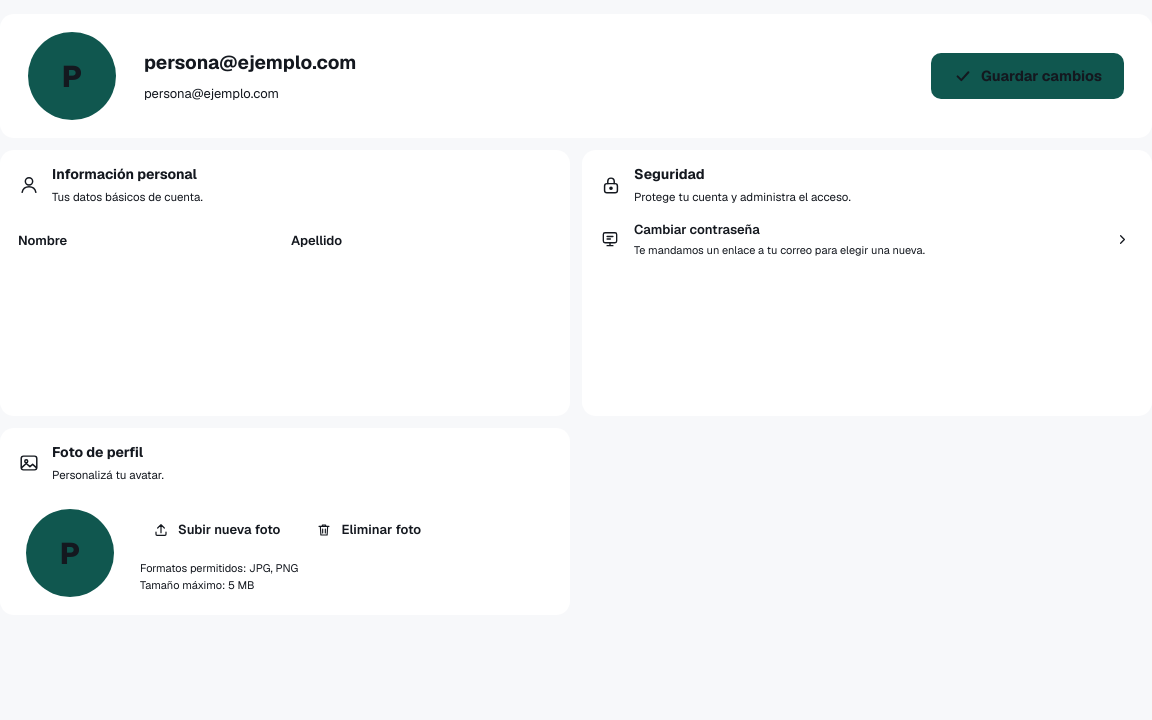
Mi perfil › Cambiar contraseña manda el enlace al correo de la cuenta
Click the button "Cambiar contraseña". click: (697, 230)
box: [600,215,1134,263]
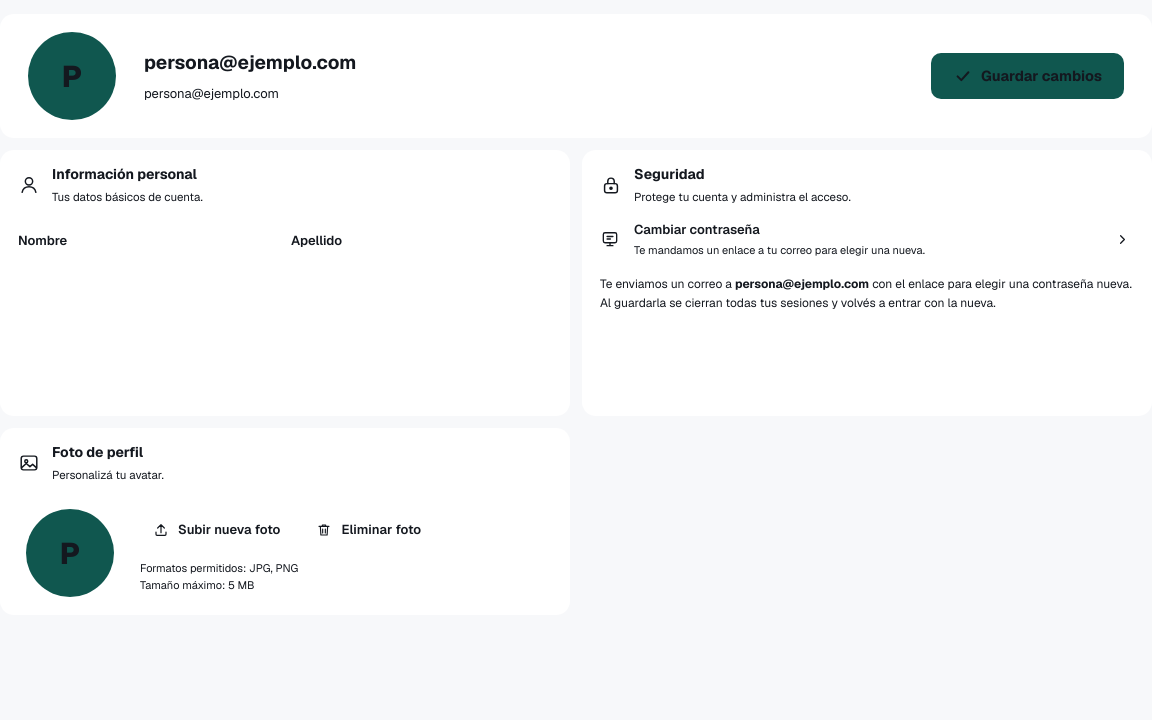
expect the text "Te enviamos un correo a" shows "persona@ejemplo.com": met, box [735,276,869,292]
